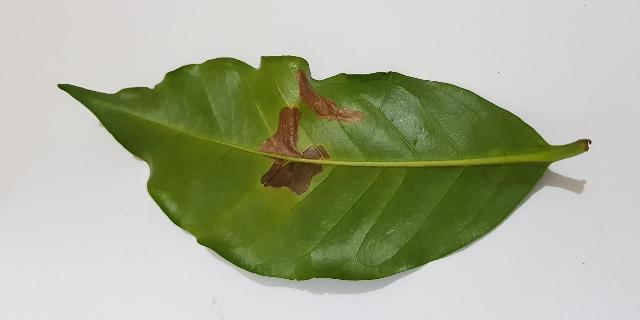cercospora: (260, 107, 329, 194), (297, 70, 362, 121)
